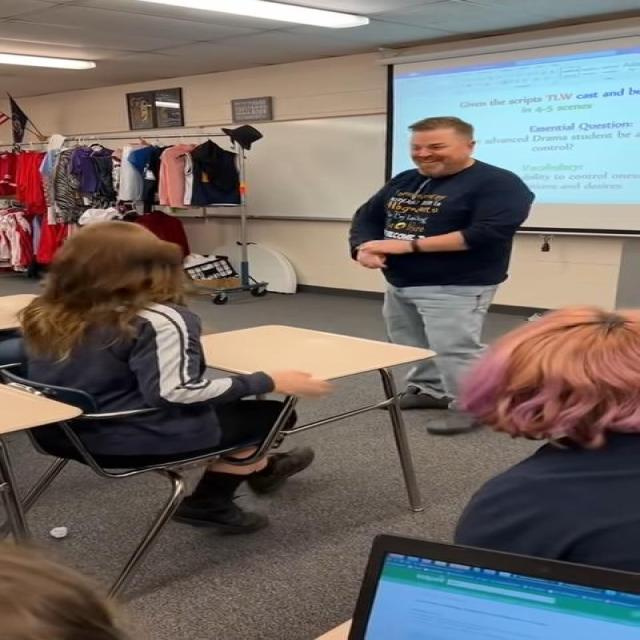NO-Mask: (408, 122, 476, 179)
